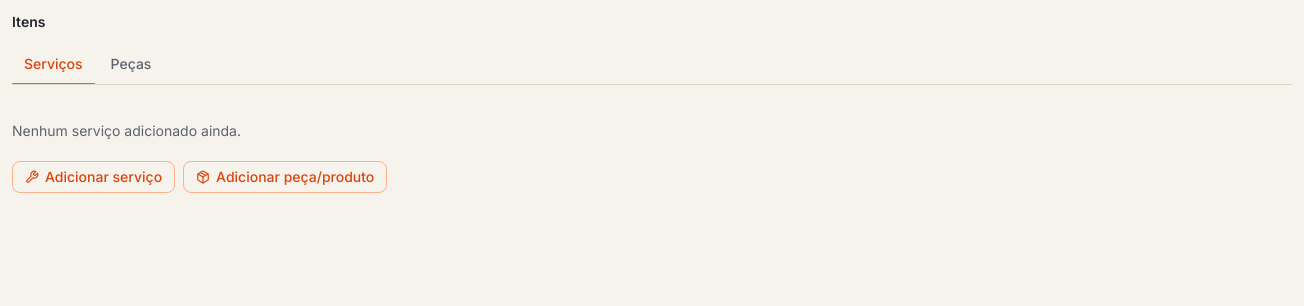
ItemsEditor — serviço cobrado pela hora técnica por categoria › treats a category with valorHora 0 as not configured (manual price)
The width and height of the screenshot is (1304, 306).
Step 1. Click the button "Adicionar serviço" → (94, 177), box [12,161,175,193]
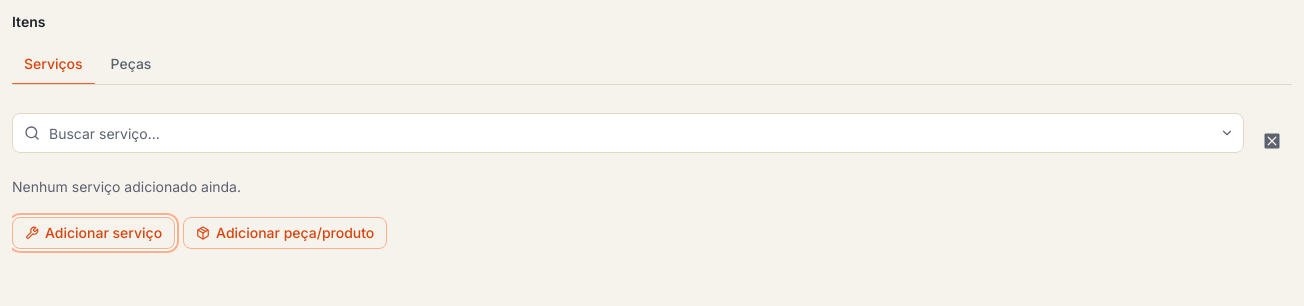
Step 2. Click the field → (628, 133), box [12,113,1244,153]
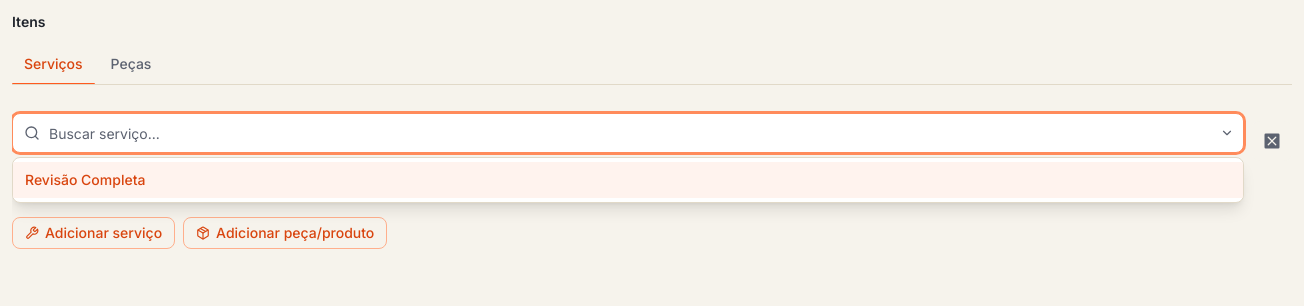
Step 3. Click the button "Revisão Completa" → (85, 180), box [13,162,1243,198]
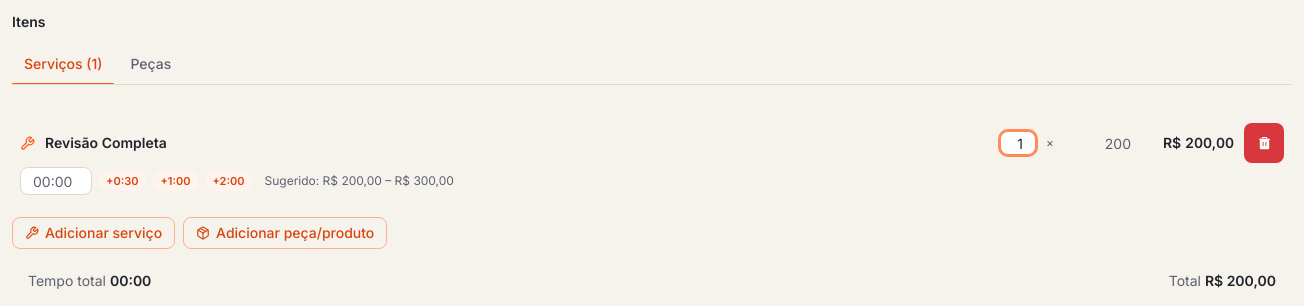
Now the number field named "Valor unitário" holds "200", box [1064,131,1144,155]
